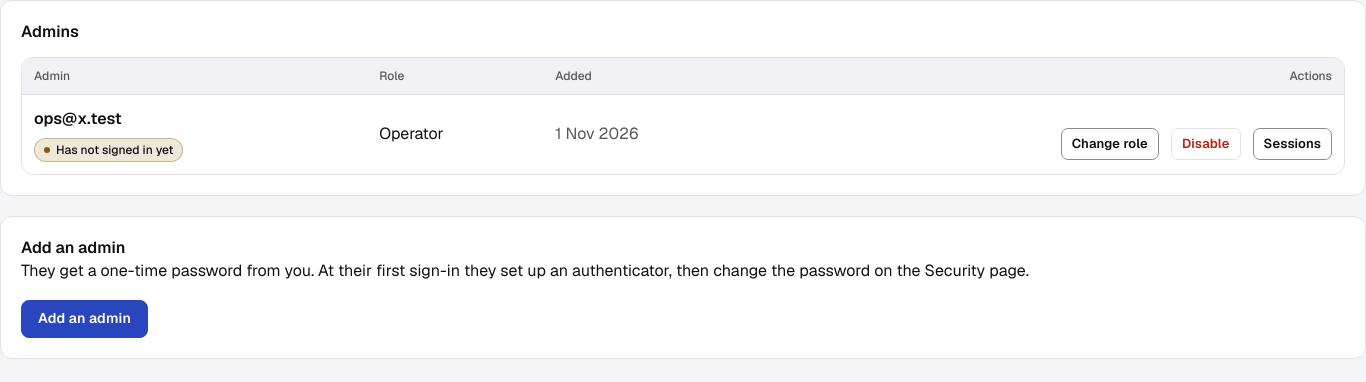
AdminsPanel › says why sessions did not load
The image size is (1366, 382).
Click the button "Sessions".
click(1292, 144)  # box [1253,128,1332,160]
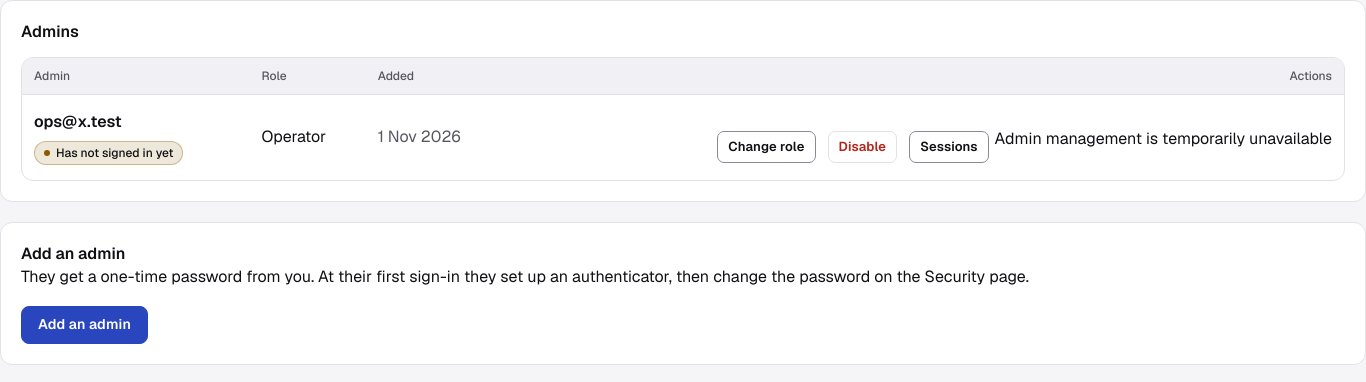
expect the message "Admin management is temporarily unavailable" is shown: met, box [995,127,1332,152]
